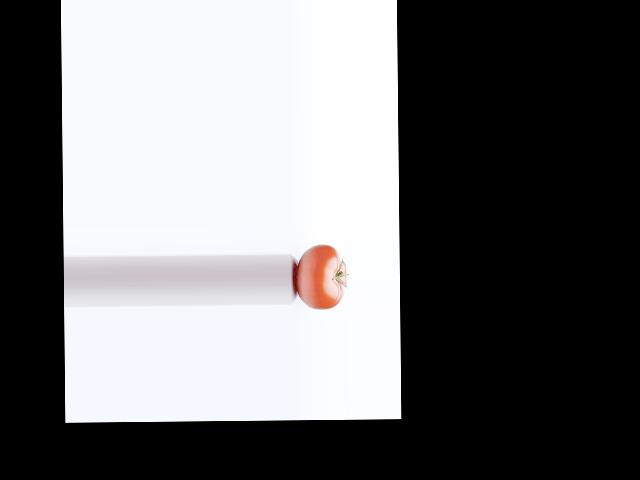tomato: (296, 244, 347, 310)
